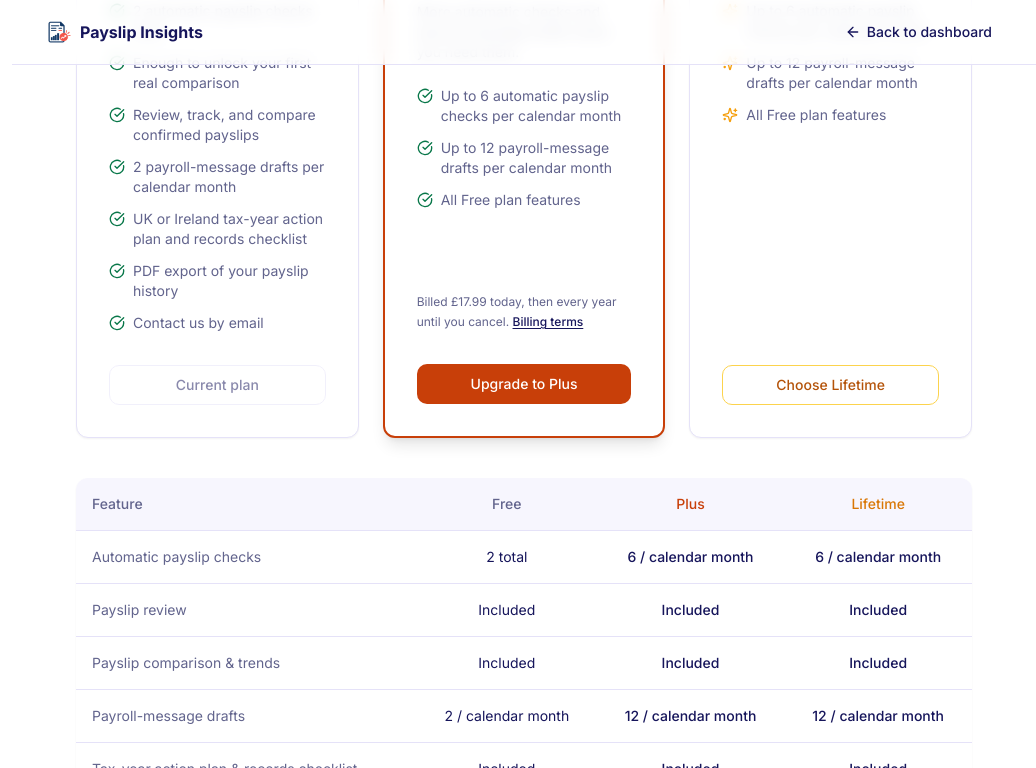
Test case: Pricing › shows a signed-in UK customer only GBP prices and sends the matching plan to checkout
The width and height of the screenshot is (1036, 768).
(page scrolled)
Click the button "Upgrade to Plus".
click(524, 384)  # box [417, 364, 631, 404]
(page scrolled)
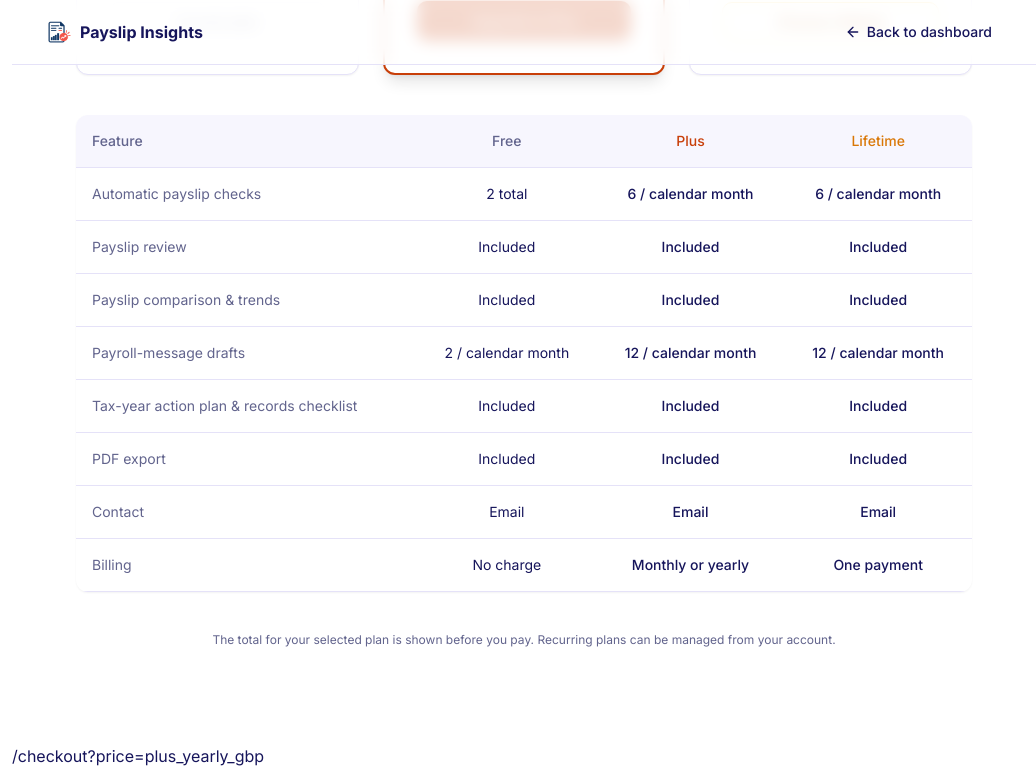
Expected: the text with test id "location" reads "/checkout?price=plus_yearly_gbp", [12, 746, 264, 766]
